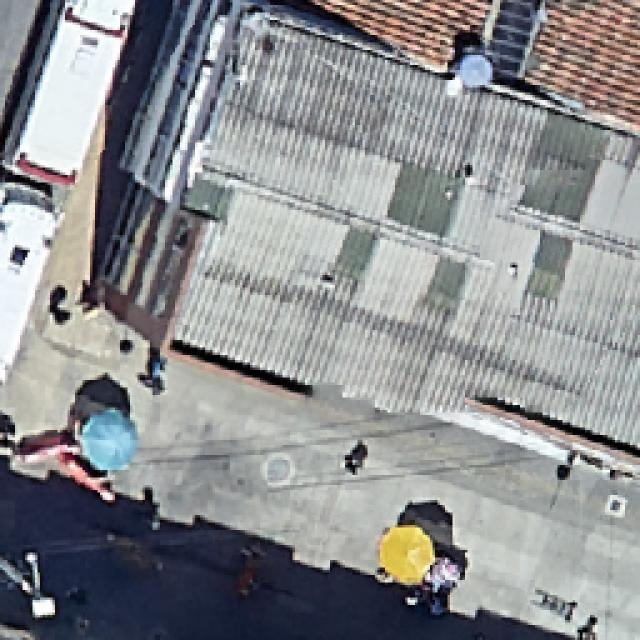vendedor_ambulante: (78, 408, 142, 472), (377, 524, 437, 586)
